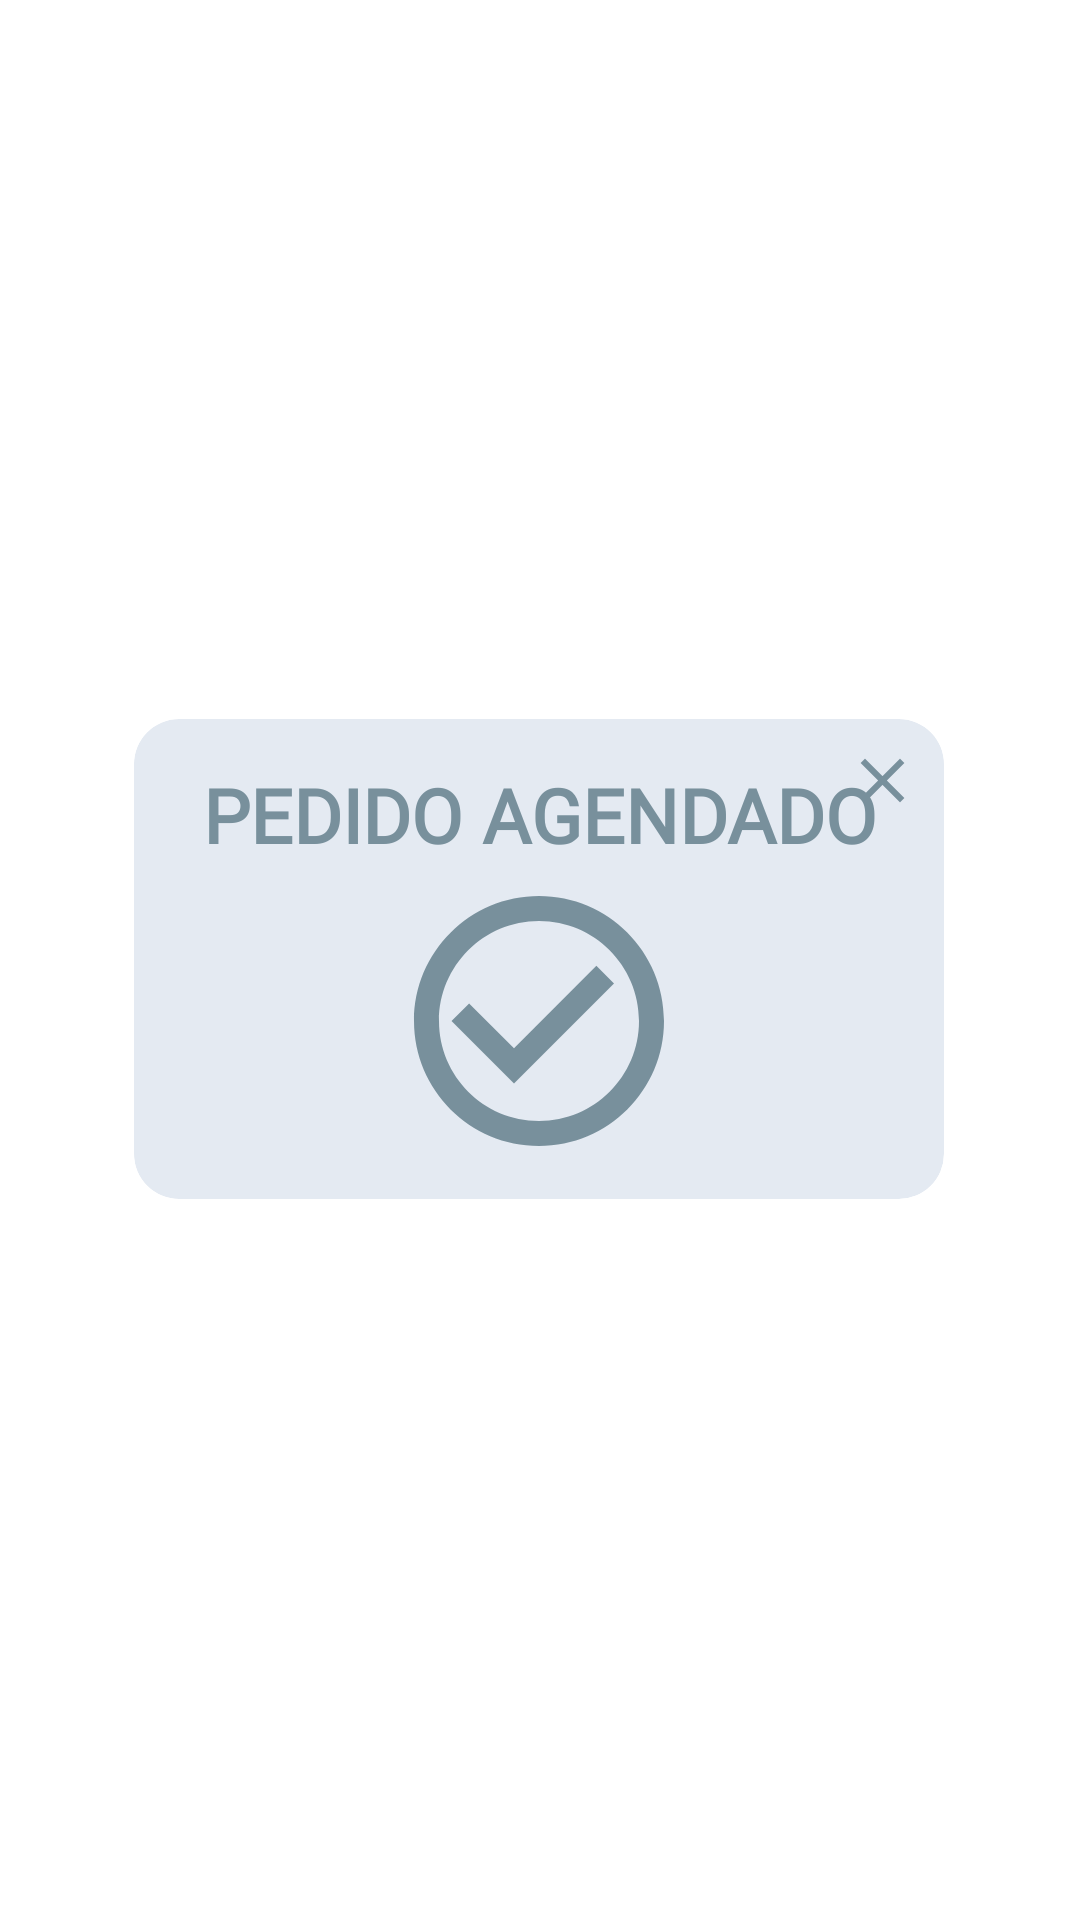

Icons on this 1080 x 1920 Android screen, each with the point to tap as point (x, y):
check: point (539, 1021)
close: point (874, 788)
